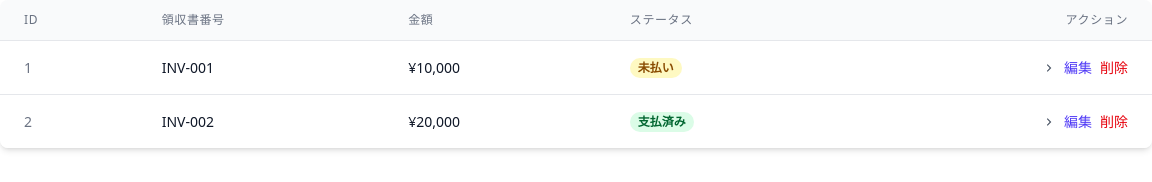
Test case: InvoiceList Component › should cancel edit when cancel button is clicked
Note: Find and click the edit button for the first invoice
Step 1. Click the button "編集" in the row of "INV-001" → (1078, 68), box [1064, 58, 1092, 78]
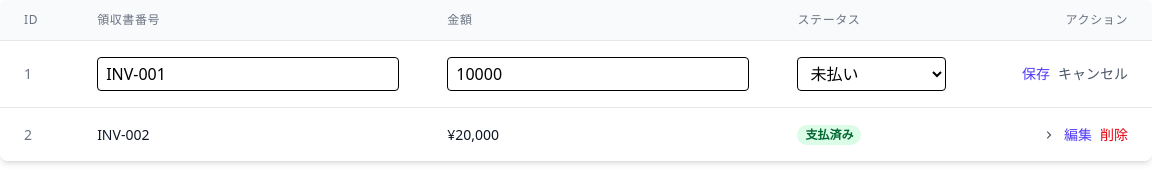
Expected: the field showing "INV-001" is shown, [97, 57, 399, 91]
Note: Click cancel button
Step 2. Click the button "キャンセル" → (1093, 74), box [1058, 64, 1128, 84]
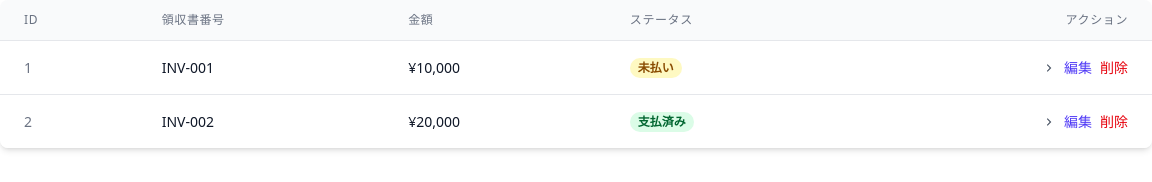
Expected: the link "INV-001" is shown, [162, 58, 214, 76]
